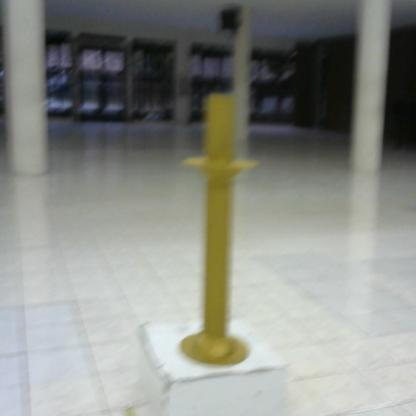pole: (178, 88, 269, 373)
